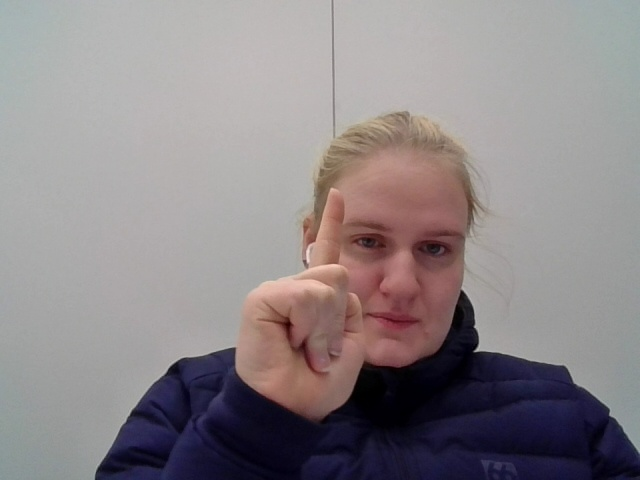up: (232, 186, 397, 435)
